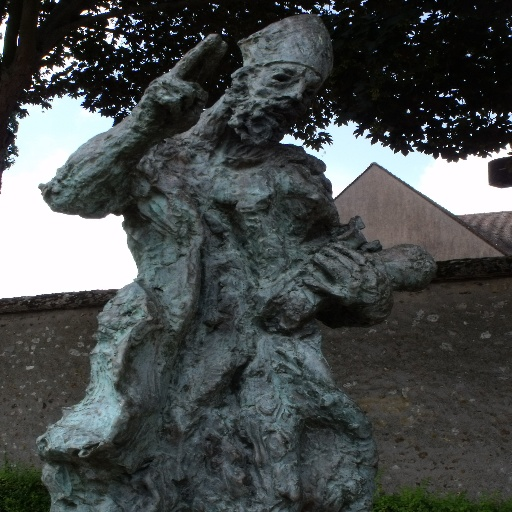hand: (115, 40, 224, 148), (303, 240, 394, 310)
